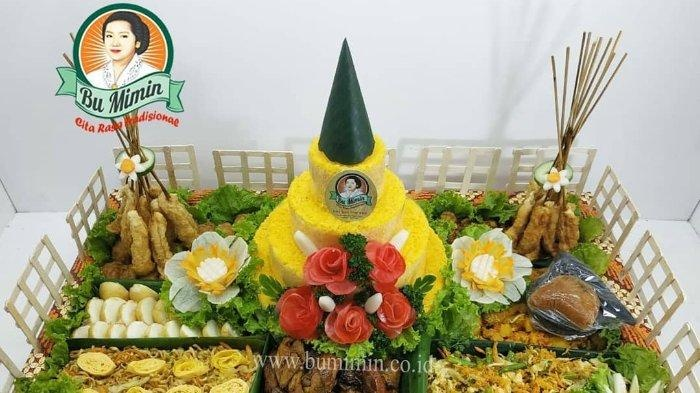tumpeng: (226, 34, 433, 216)
